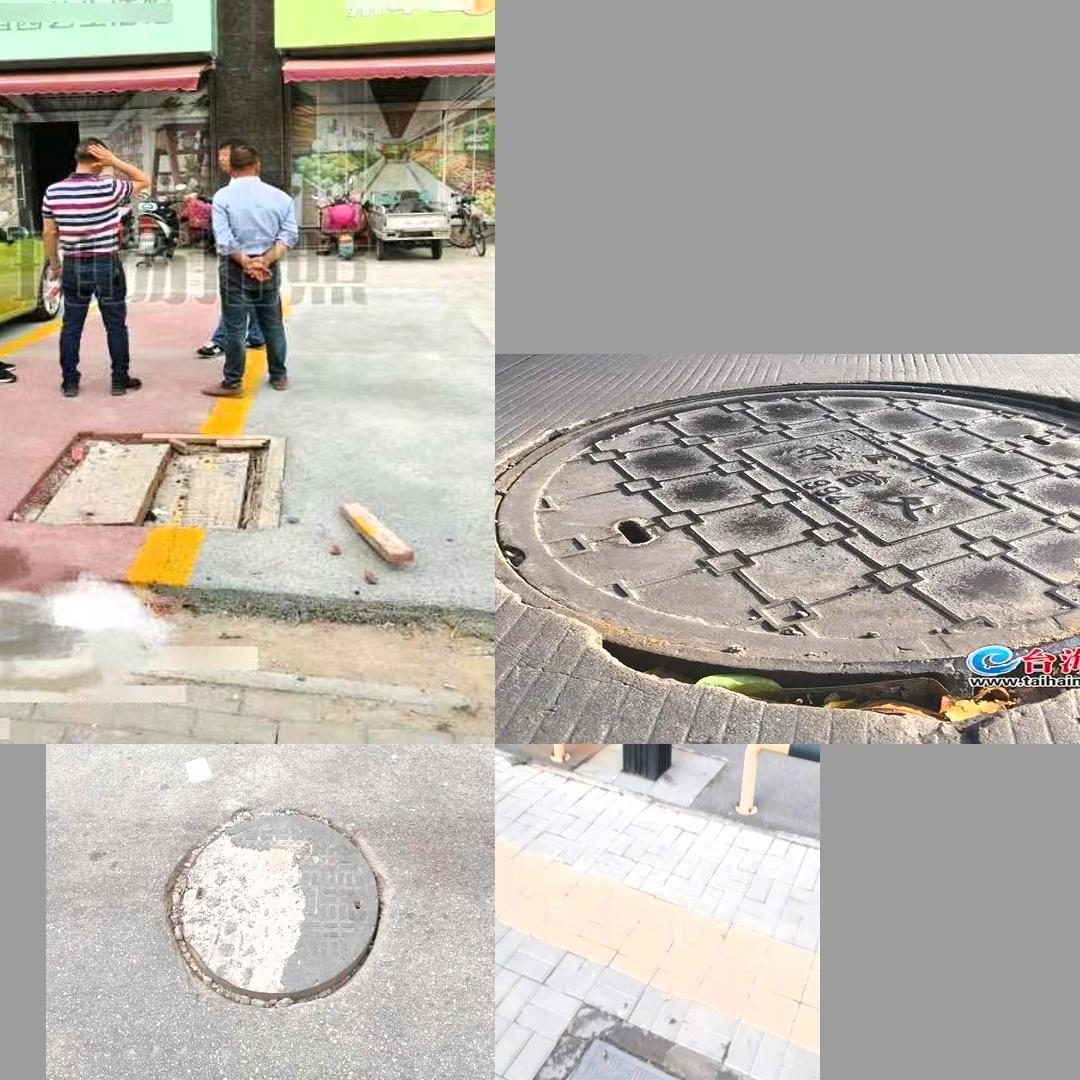circle: (515, 378, 1080, 726), (153, 796, 391, 1012), (17, 433, 285, 534), (499, 1003, 820, 1080)
